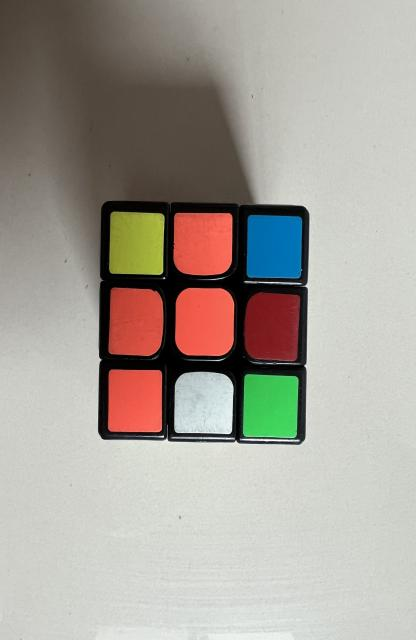Blue: (247, 215, 302, 279)
Green: (243, 374, 299, 438)
Orange: (176, 288, 235, 356), (108, 288, 164, 356), (173, 212, 233, 275), (108, 370, 162, 432)
Red: (245, 292, 300, 361)
White: (174, 371, 234, 434)
Yellow: (109, 211, 165, 275)
